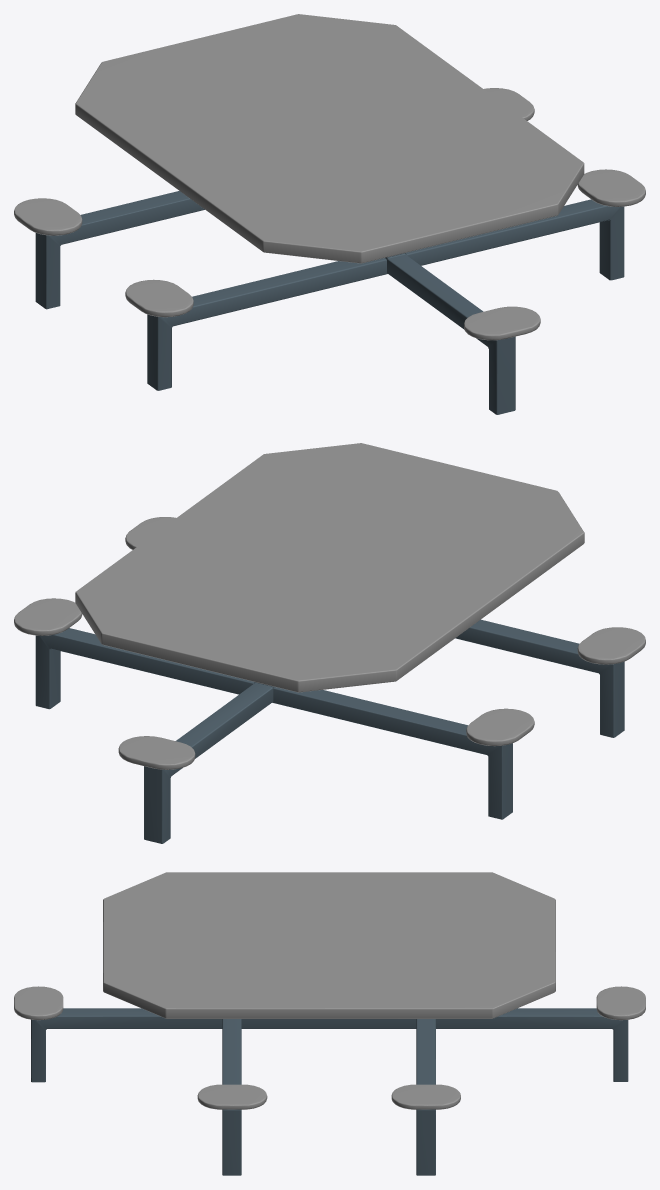
The model's file is LunchTable.FBX.
The picture shows the model from 3 angles, top to bottom: view 1: azimuth 30°, elevation 25°; view 2: azimuth 150°, elevation 25°; view 3: azimuth 270°, elevation 25°; orthographic projection. The views are drawn at different scales.
Parts seen in each view (by area): view 1: Box001, Line003, Line006, Line002, Cylinder012, Cylinder009, Cylinder011, Cylinder010, Cylinder008; view 2: Box001, Line006, Line003, Line002, Cylinder013, Cylinder011, Cylinder009, Cylinder008, Cylinder010; view 3: Box001, Line002, Line003, Line006, Cylinder010, Cylinder008, Cylinder012, Cylinder013.
Boxes of the visible parts, x1,y1,x2,y2 form: Box001: [75, 14, 584, 263]; Line003: [147, 199, 624, 390]; Line006: [35, 191, 204, 309]; Line002: [385, 253, 515, 414]; Cylinder012: [464, 306, 540, 340]; Cylinder009: [14, 198, 82, 235]; Cylinder011: [125, 279, 193, 317]; Cylinder010: [577, 169, 645, 206]; Cylinder008: [484, 88, 534, 120]; Box001: [75, 443, 584, 692]; Line006: [35, 628, 512, 819]; Line003: [455, 619, 624, 737]; Line002: [144, 682, 274, 843]; Cylinder013: [118, 736, 195, 769]; Cylinder011: [577, 627, 645, 664]; Cylinder009: [466, 708, 534, 746]; Cylinder008: [14, 598, 82, 635]; Cylinder010: [125, 517, 175, 549]; Box001: [103, 872, 555, 1018]; Line002: [31, 1008, 628, 1082]; Line003: [222, 1019, 241, 1175]; Line006: [416, 1019, 435, 1175]; Cylinder010: [197, 1084, 267, 1109]; Cylinder008: [391, 1084, 460, 1109]; Cylinder012: [14, 986, 63, 1020]; Cylinder013: [596, 986, 645, 1020].
Size of the model in its own units: 77.91 by 23.23 by 97.7.
